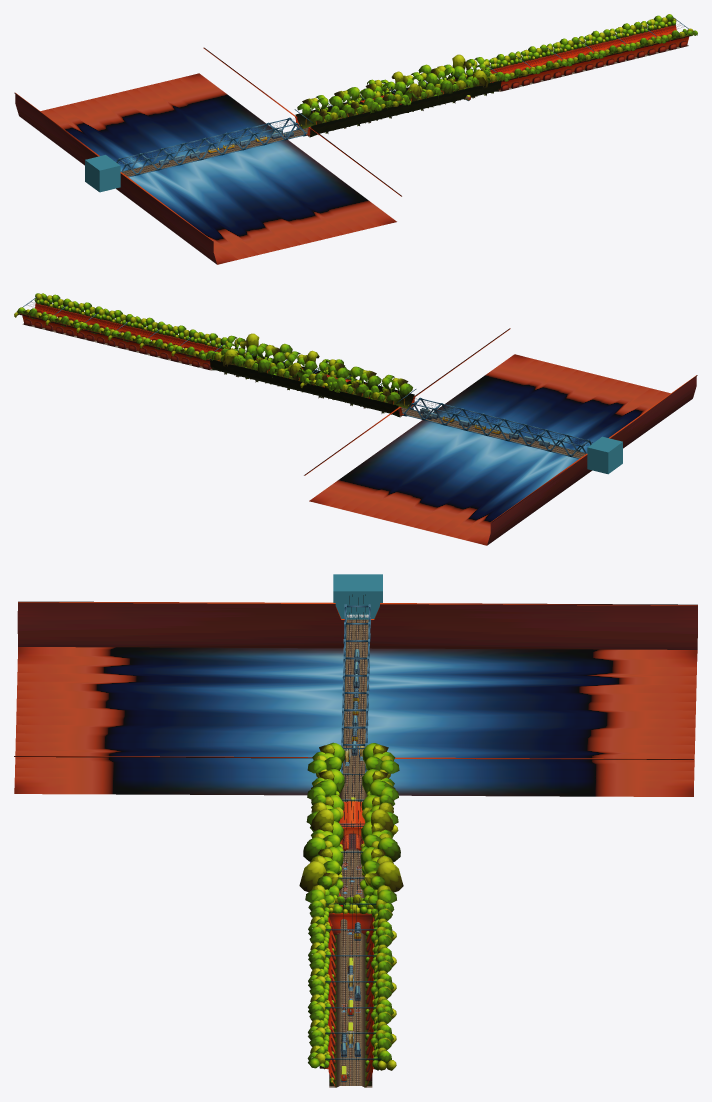
File: subway-map.glb
3 views of the same model, one above another, from view 1: azimuth 30°, elevation 25°; view 2: azimuth 150°, elevation 25°; view 3: azimuth 270°, elevation 25° (orthographic). The views are drawn at different scales.
Visible parts, largest first — view 1: Object_9, Object_13, Object_12, Object_10, Object_11, Object_0, Object_15, Object_14; view 2: Object_9, Object_13, Object_12, Object_10, Object_11, Object_0, Object_15; view 3: Object_9, Object_13, Object_12, Object_11, Object_10, Object_14, Object_0, Object_15.
Boxes of the visible parts, x1=… form: Object_9: x1=14, y1=47, x2=401, y2=264; Object_13: x1=295, y1=54, x2=508, y2=137; Object_12: x1=609, y1=14, x2=697, y2=61; Object_10: x1=547, y1=29, x2=635, y2=76; Object_11: x1=484, y1=44, x2=571, y2=91; Object_0: x1=85, y1=155, x2=120, y2=192; Object_15: x1=158, y1=80, x2=499, y2=165; Object_14: x1=357, y1=67, x2=498, y2=113; Object_9: x1=304, y1=328, x2=697, y2=545; Object_13: x1=202, y1=333, x2=415, y2=417; Object_12: x1=14, y1=293, x2=102, y2=339; Object_10: x1=76, y1=308, x2=164, y2=354; Object_11: x1=139, y1=324, x2=227, y2=370; Object_0: x1=587, y1=436, x2=622, y2=474; Object_15: x1=211, y1=359, x2=549, y2=446; Object_9: x1=14, y1=594, x2=697, y2=796; Object_13: x1=299, y1=742, x2=403, y2=930; Object_12: x1=307, y1=1003, x2=396, y2=1087; Object_11: x1=308, y1=900, x2=396, y2=984; Object_10: x1=308, y1=952, x2=396, y2=1036; Object_14: x1=310, y1=796, x2=398, y2=934; Object_0: x1=333, y1=574, x2=382, y2=619; Object_15: x1=340, y1=649, x2=364, y2=1057.
Bounding box in the file's own units: 811 × 57.27 × 482.
8 materials, 6 textured.
